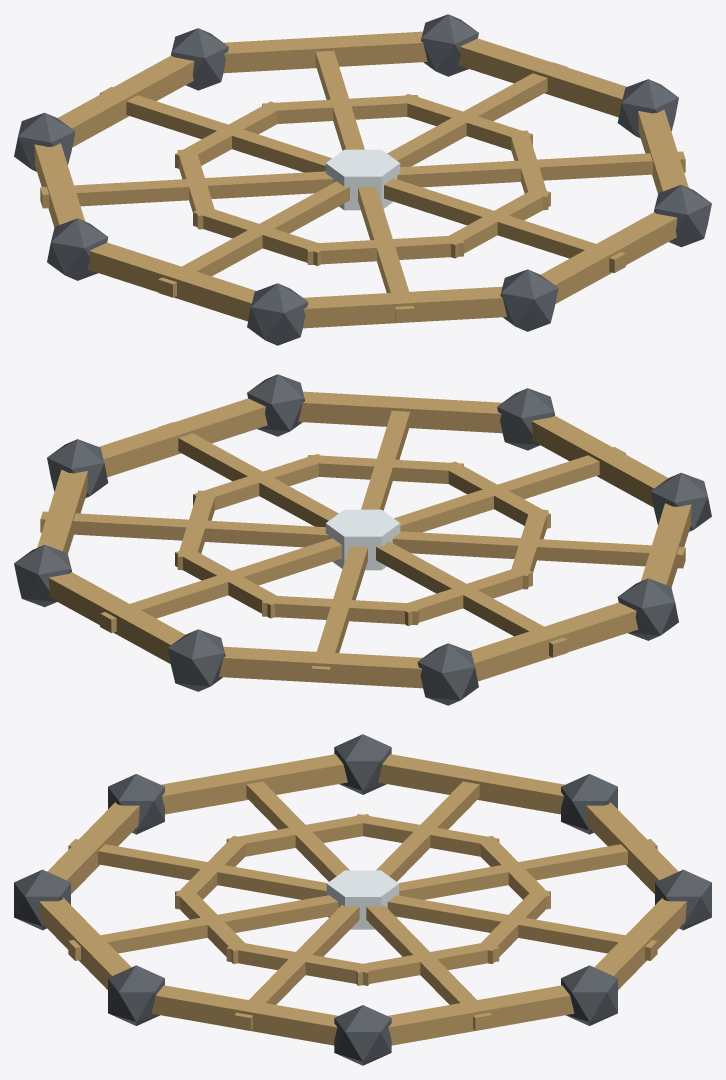
The model's file is WP_Net.fbx.
The picture shows the model from 3 angles, top to bottom: view 1: azimuth 30°, elevation 25°; view 2: azimuth 150°, elevation 25°; view 3: azimuth 270°, elevation 25°; orthographic projection. The views are drawn at different scales.
Parts seen in each view (by area): view 1: WP_Net; view 2: WP_Net; view 3: WP_Net.
Part boxes in pixels (x1,y1,x2,y2): WP_Net: (14,14,711,345); WP_Net: (14,374,711,705); WP_Net: (14,734,711,1065).
Bounding box in the file's own units: 1.36 × 1.35 × 0.13.
